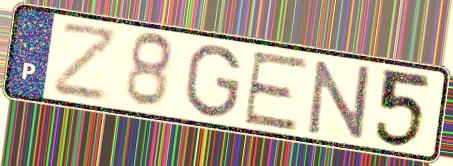5: (371, 66, 437, 151)
8: (121, 30, 177, 112)
E: (240, 49, 312, 133)
G: (183, 42, 244, 120)
N: (306, 58, 373, 142)
Z: (52, 22, 122, 104)
